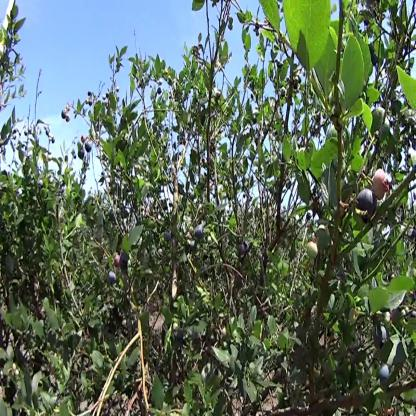intermediate: (374, 171, 392, 204), (114, 251, 121, 270)
mature: (356, 190, 377, 223), (373, 324, 390, 351), (376, 361, 390, 389), (236, 242, 248, 261), (109, 270, 119, 288), (195, 223, 204, 240), (85, 141, 95, 156)
young: (308, 240, 320, 263)
